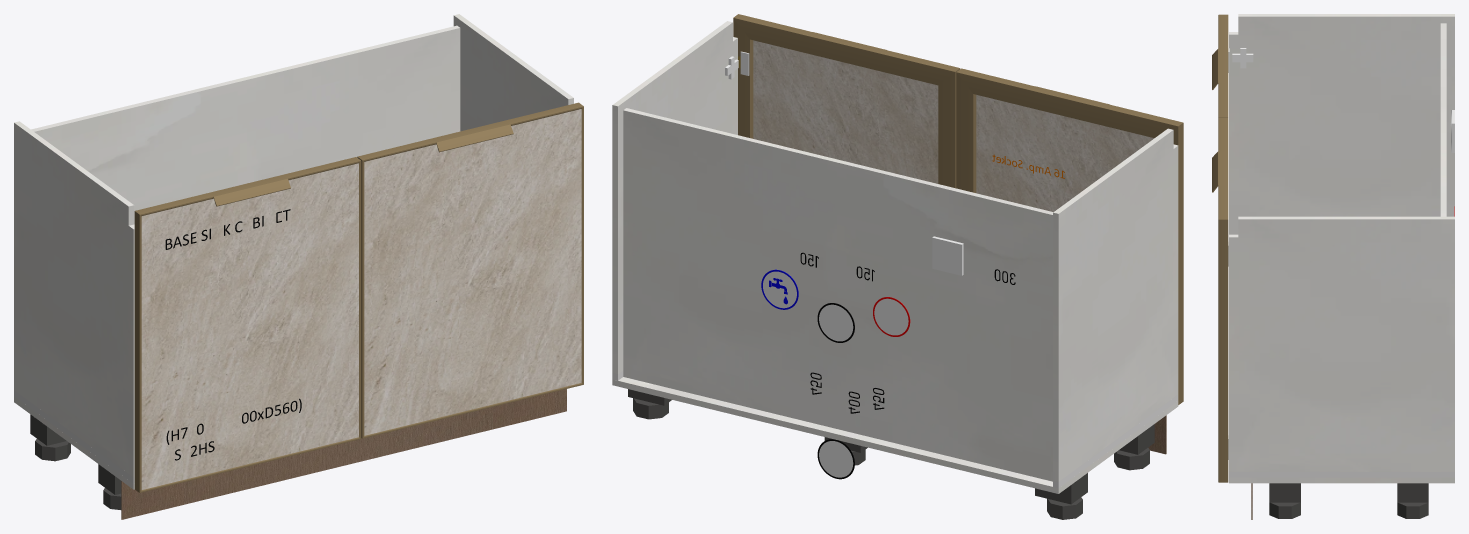
File: BC-SK-TTS-ST-XXX-2HS-XXX-1200-720-560-15.glb
3 views of the same model, side by side, from view 1: azimuth 30°, elevation 25°; view 2: azimuth 150°, elevation 25°; view 3: azimuth 270°, elevation 25° (orthographic). The views are drawn at different scales.
Parts seen in each view (by area): view 1: Object_node_17, Object_node, TP, TP_node_0, Object_node_91, TP_node_1, Extrusion_node_4, ExtrSplGeo, ExtrSplGeo_node, Extrusion_node, Extrusion_node_11, Object_node_35 (+6 smaller); view 2: TP, TP_node_0, Object_node_17, Object_node, TP_node_1, TP_node, Extrusion_node, Extrusion_node_2, Extrusion_node_11, ExtrSplGeo_node, ExtrSplGeo, Extrusion_node_4 (+10 smaller); view 3: TP_node_1, TP_node_0, Extrusion_node_9, TP_node, TP, Object_node_37, Extrusion_node, Plate_node, Plate_node_1, ExtrSplGeo, ExtrSplGeo_node, Foot_node (+3 smaller).
Part boxes in pixels (bbox=[...]): Object_node_17: bbox=[364, 109, 581, 435]; Object_node: bbox=[141, 163, 358, 489]; TP: bbox=[31, 25, 460, 224]; TP_node_0: bbox=[14, 121, 134, 477]; Object_node_91: bbox=[121, 389, 566, 519]; TP_node_1: bbox=[453, 14, 573, 131]; Extrusion_node_4: bbox=[134, 211, 141, 492]; ExtrSplGeo: bbox=[209, 175, 290, 206]; ExtrSplGeo_node: bbox=[431, 120, 513, 152]; Extrusion_node: bbox=[135, 157, 360, 215]; Extrusion_node_11: bbox=[357, 157, 364, 438]; Object_node_35: bbox=[14, 390, 134, 483]; TP: bbox=[623, 108, 1053, 481]; TP_node_0: bbox=[1053, 128, 1178, 481]; Object_node_17: bbox=[753, 40, 938, 183]; Object_node: bbox=[976, 95, 1154, 211]; TP_node_1: bbox=[612, 21, 737, 374]; TP_node: bbox=[612, 377, 1178, 493]; Extrusion_node: bbox=[956, 68, 1182, 137]; Extrusion_node_2: bbox=[956, 72, 976, 192]; Extrusion_node_11: bbox=[938, 68, 960, 188]; ExtrSplGeo_node: bbox=[807, 32, 886, 71]; ExtrSplGeo: bbox=[1030, 86, 1109, 125]; Extrusion_node_4: bbox=[1173, 123, 1183, 404]; TP_node_1: bbox=[1229, 216, 1454, 471]; TP_node_0: bbox=[1229, 14, 1454, 234]; Extrusion_node_9: bbox=[1218, 219, 1228, 482]; TP_node: bbox=[1229, 477, 1454, 483]; TP: bbox=[1440, 23, 1446, 216]; Object_node_37: bbox=[1229, 472, 1454, 477]; Extrusion_node: bbox=[1218, 14, 1228, 116]; Plate_node: bbox=[1397, 483, 1428, 502]; Plate_node_1: bbox=[1269, 483, 1300, 502]; ExtrSplGeo: bbox=[1212, 48, 1228, 89]; ExtrSplGeo_node: bbox=[1212, 151, 1228, 192]; Foot_node: bbox=[1397, 502, 1428, 518].
Size of what is drawn, in the model's own units: 1.2 by 0.82 by 0.6.
14 materials, 3 textured.
